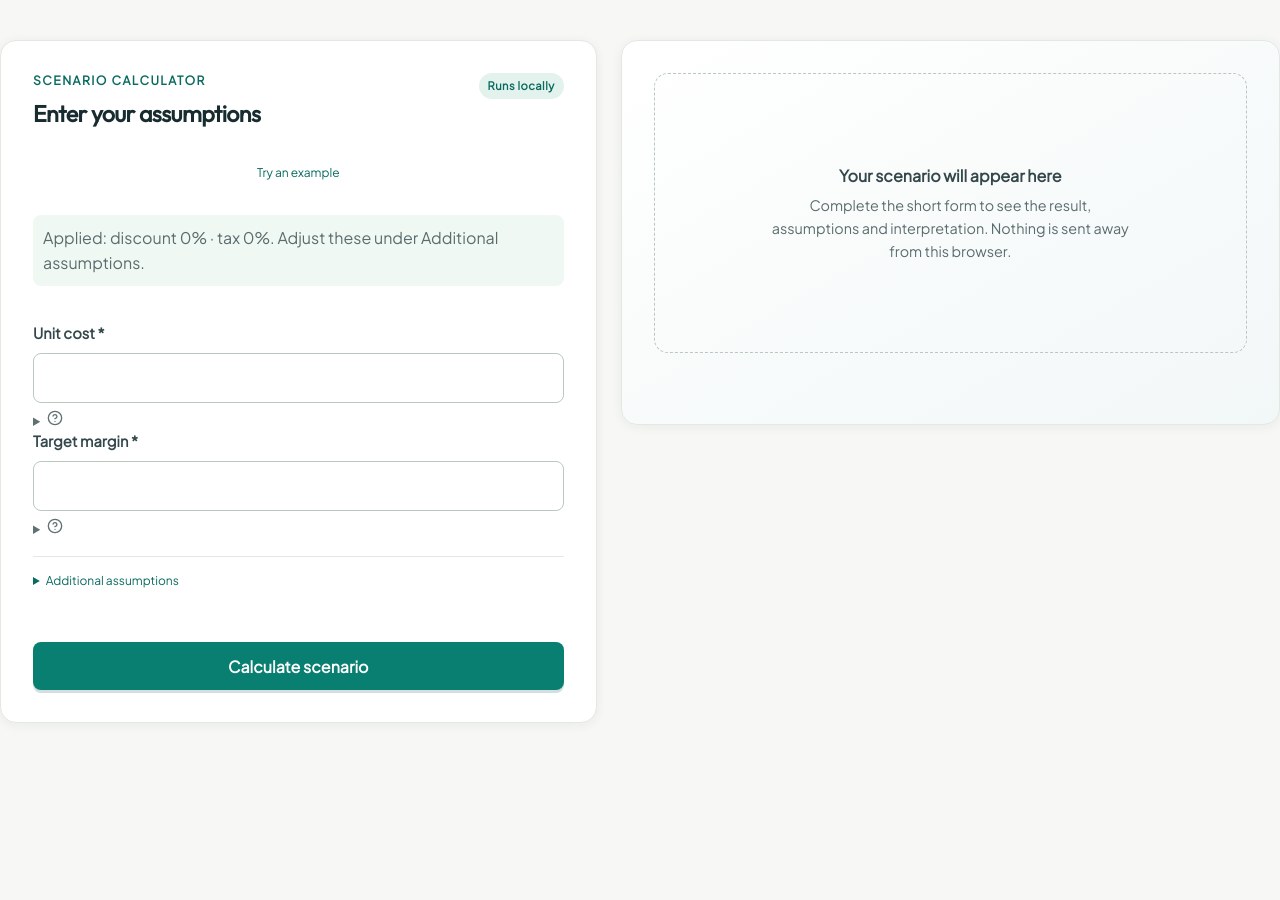
it: business calculator form integration › shows field-level boundary errors before pricing arithmetic runs
Click the button "Try an example". click: (298, 173)
box: [33, 151, 564, 195]
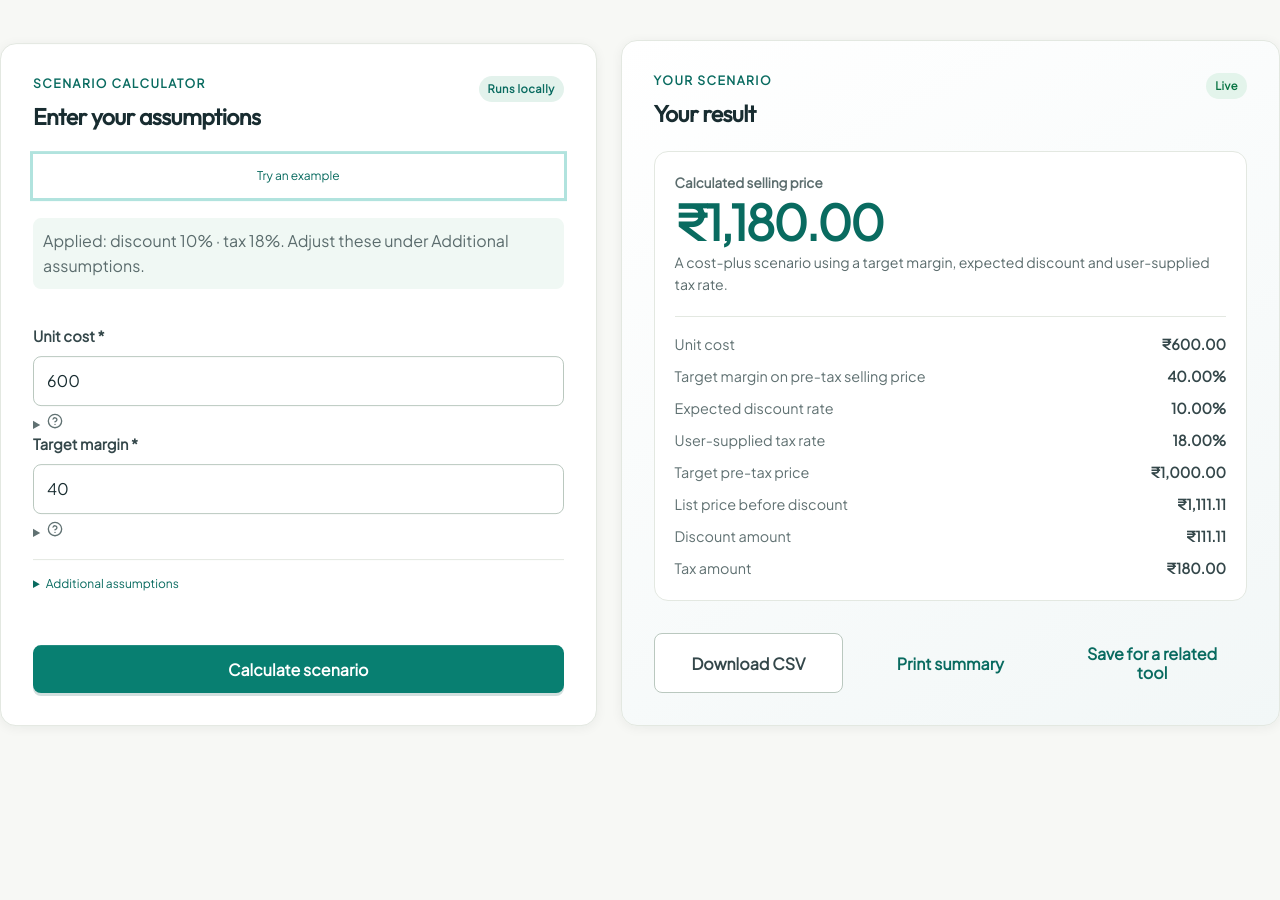
Clear the field labelled "Target margin *". click: (298, 489)
box: [33, 464, 564, 514]
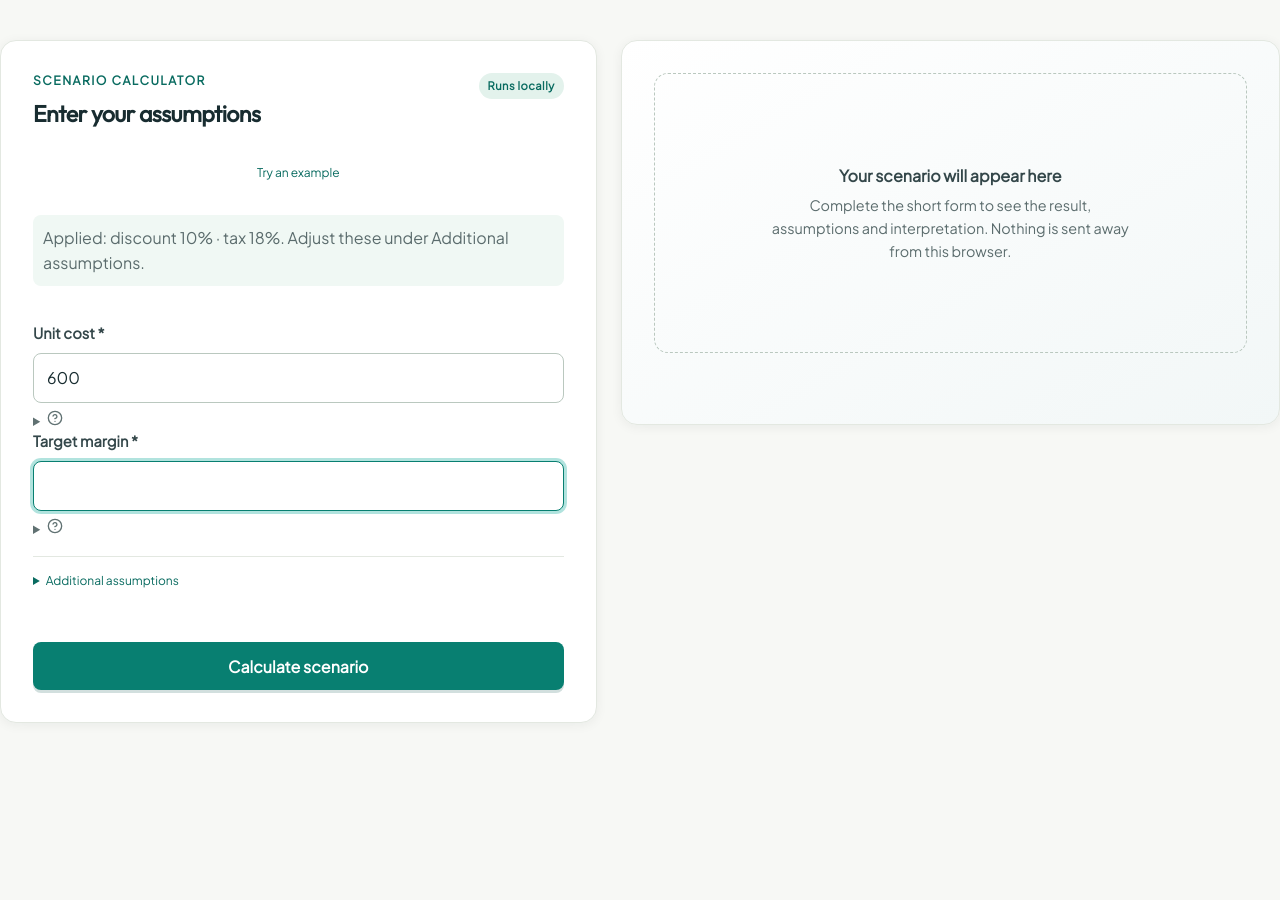
Type "100" into the field labelled "Target margin *". click: (298, 486)
box: [33, 461, 564, 511]
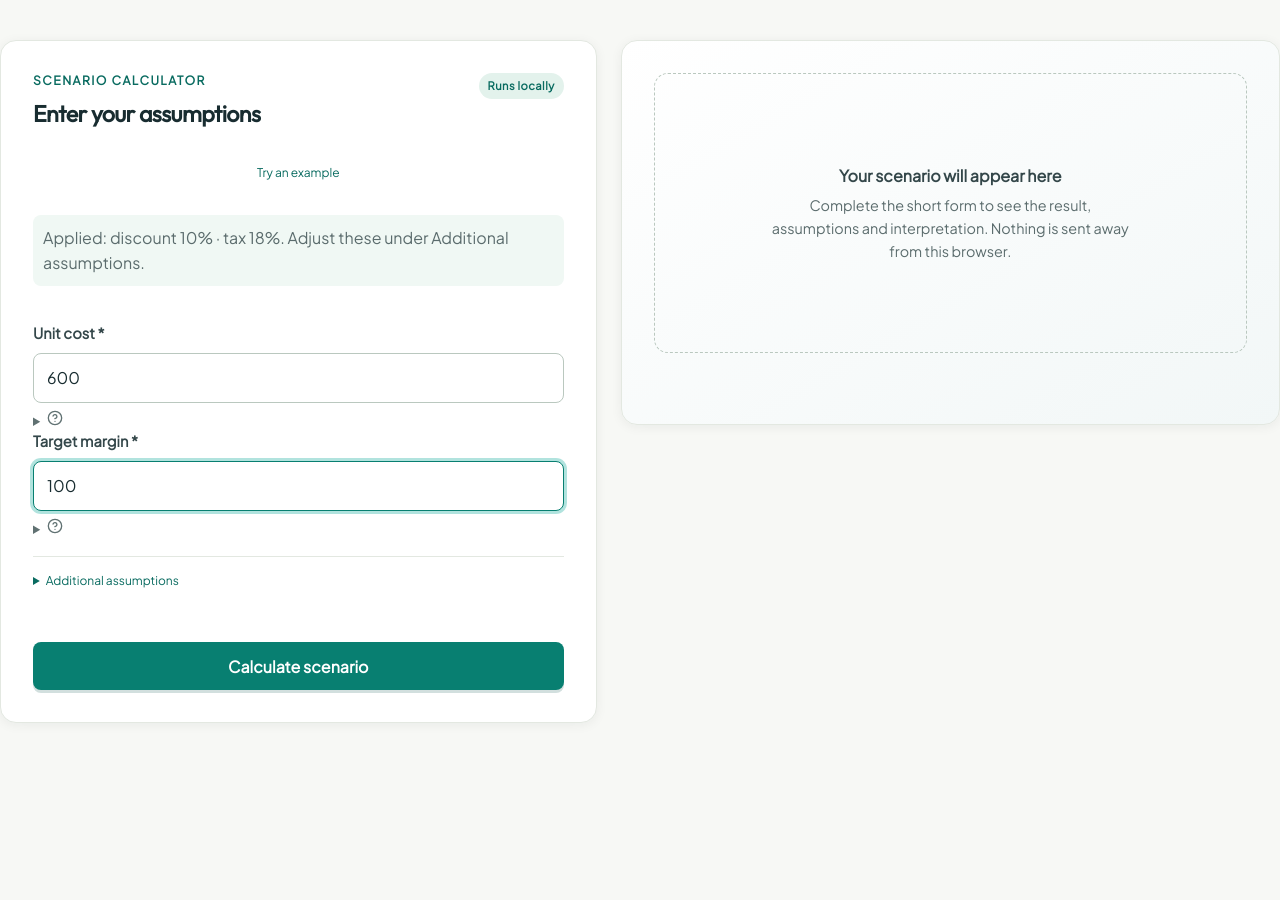
Click the button "Calculate scenario". click: (298, 666)
box: [33, 642, 564, 690]
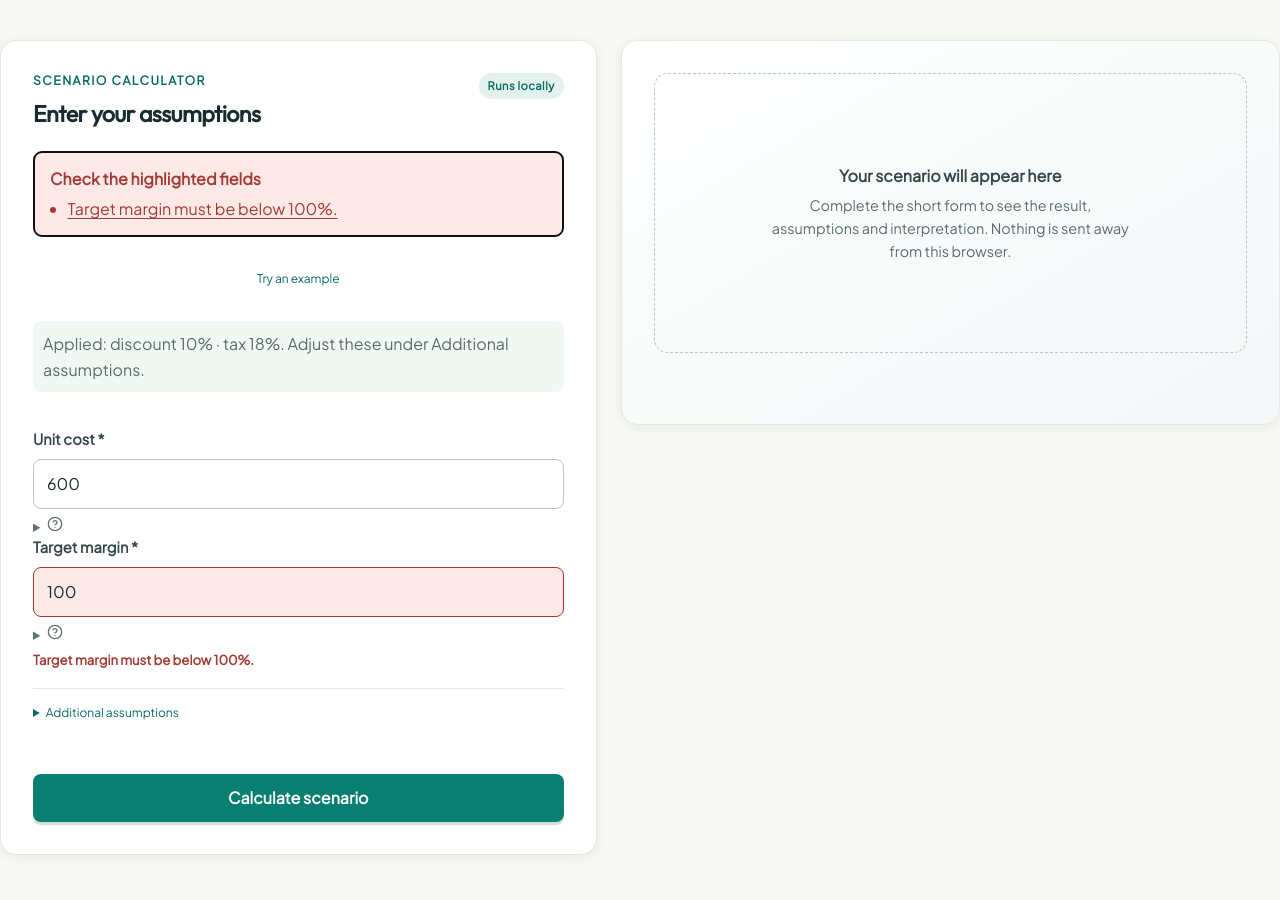
Now the text "Target margin must be below 100%." is shown, box [33, 651, 254, 668]
